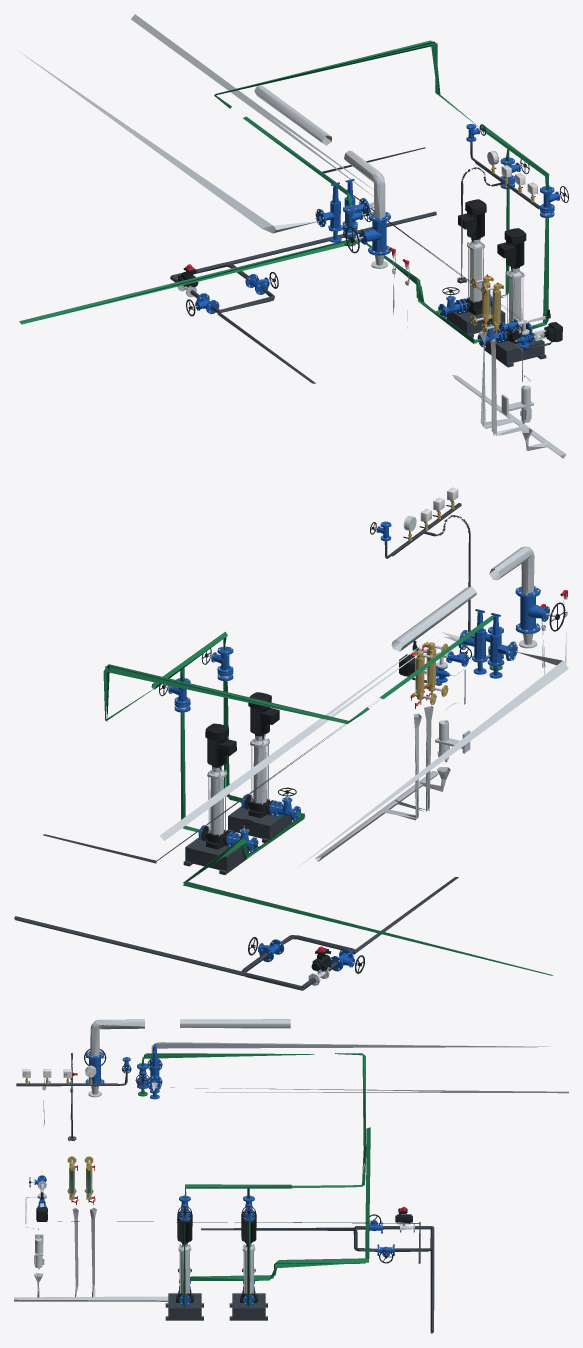
3 renders of one model, top to bottom at view 1: azimuth 30°, elevation 25°; view 2: azimuth 150°, elevation 25°; view 3: azimuth 270°, elevation 25°, orthographic. The views are drawn at different scales.
Visible parts, largest first — view 1: suction_common, local_open_drains, pump_2, pump_1, safety_vent_1, safety_vent_2, pump_branch_1, to_direct, pump_branch_2, steam_delivery, steam_manual, steam_rise (+6 smaller); view 2: pump_2, pump_1, local_open_drains, safety_vent_2, safety_vent_1, suction_common, pump_branch_2, to_direct, pump_branch_1, steam_delivery, steam_manual, bottom_discharge (+6 smaller); view 3: suction_common, safety_vent_1, local_open_drains, pump_branch_2, pump_branch_1, steam_delivery, pump_1, pump_2, safety_vent_2, steam_rise, to_direct, direct_inlet (+5 smaller).
Part boxes in pixels (box(x1,y1,x2,y2)): suction_common: box(19, 237, 474, 343); local_open_drains: box(452, 330, 566, 458); pump_2: box(458, 199, 490, 314); pump_1: box(497, 228, 529, 343); safety_vent_1: box(19, 51, 321, 233); safety_vent_2: box(131, 14, 374, 208); pump_branch_1: box(474, 174, 549, 367); to_direct: box(214, 40, 479, 127); pump_branch_2: box(434, 149, 509, 337); steam_delivery: box(254, 85, 331, 145); steam_manual: box(345, 211, 390, 255); steam_rise: box(344, 150, 385, 218); pump_2: box(201, 723, 236, 849); pump_1: box(244, 692, 279, 818); local_open_drains: box(315, 705, 450, 861); safety_vent_2: box(160, 631, 459, 840); safety_vent_1: box(293, 652, 568, 870); suction_common: box(183, 813, 553, 975); pump_branch_2: box(180, 668, 260, 874); to_direct: box(103, 664, 369, 723); pump_branch_1: box(223, 637, 305, 842); steam_delivery: box(391, 586, 476, 651); steam_manual: box(515, 586, 565, 634); bottom_discharge: box(14, 916, 303, 990); suction_common: box(190, 1127, 370, 1280); safety_vent_1: box(151, 1042, 550, 1053); local_open_drains: box(14, 1207, 168, 1301); pump_branch_2: box(229, 1188, 267, 1320); pump_branch_1: box(165, 1188, 203, 1320); steam_delivery: box(180, 1019, 290, 1028); pump_1: box(176, 1213, 193, 1303); pump_2: box(240, 1212, 257, 1303); safety_vent_2: box(151, 1082, 568, 1093); steam_rise: box(90, 1019, 144, 1056); to_direct: box(291, 1053, 366, 1188); direct_inlet: box(141, 1053, 314, 1066).
Size of the model in its own units: 5 by 3.03 by 6.5.
